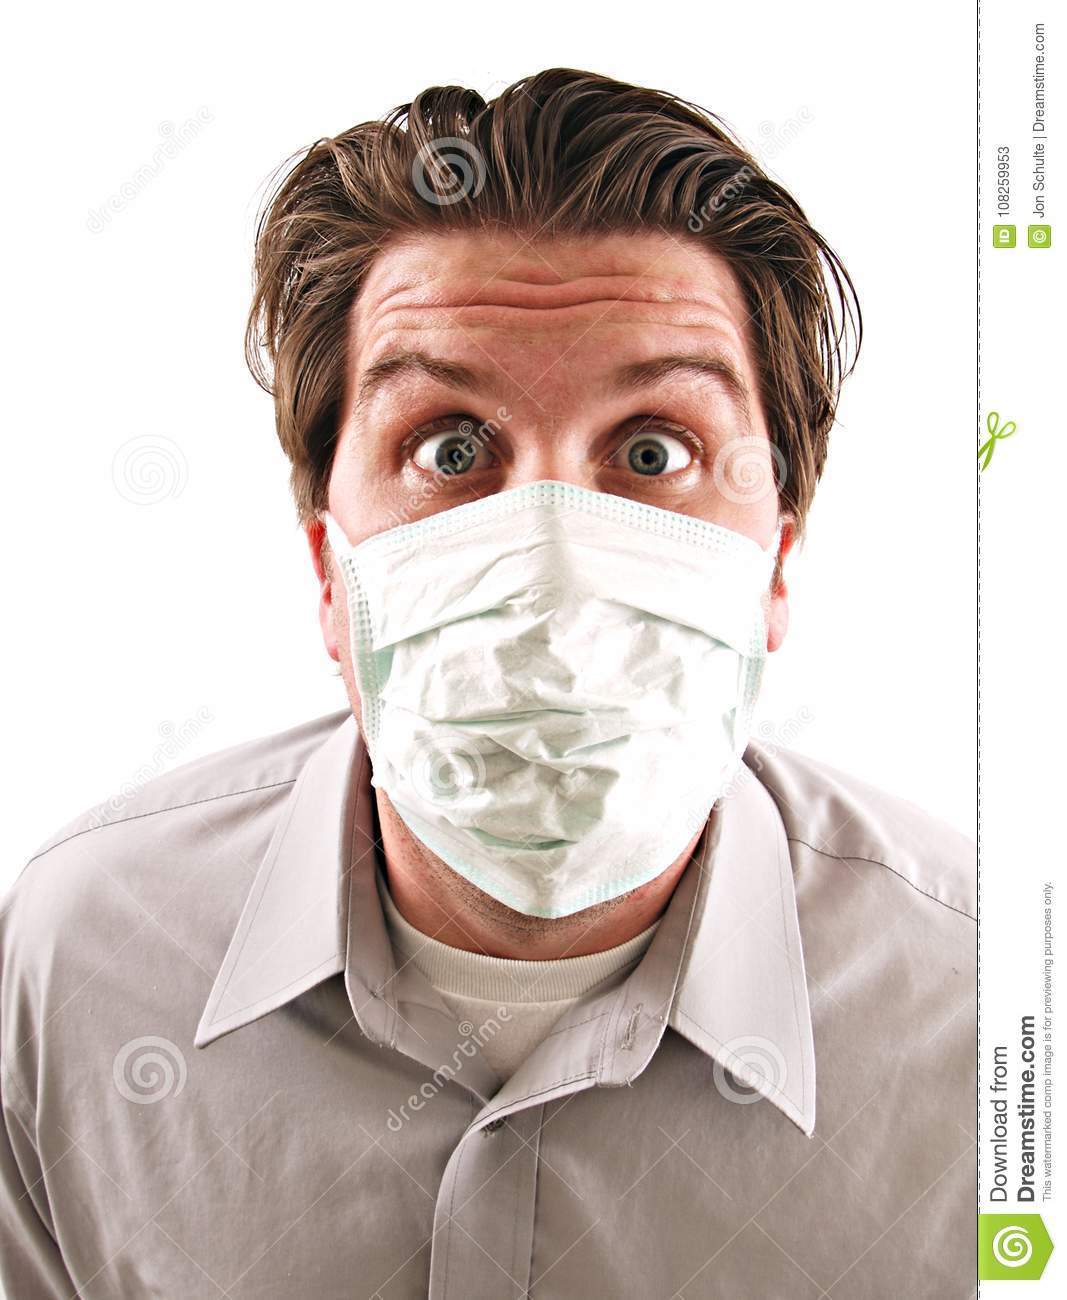mask: (337, 469, 776, 924)
